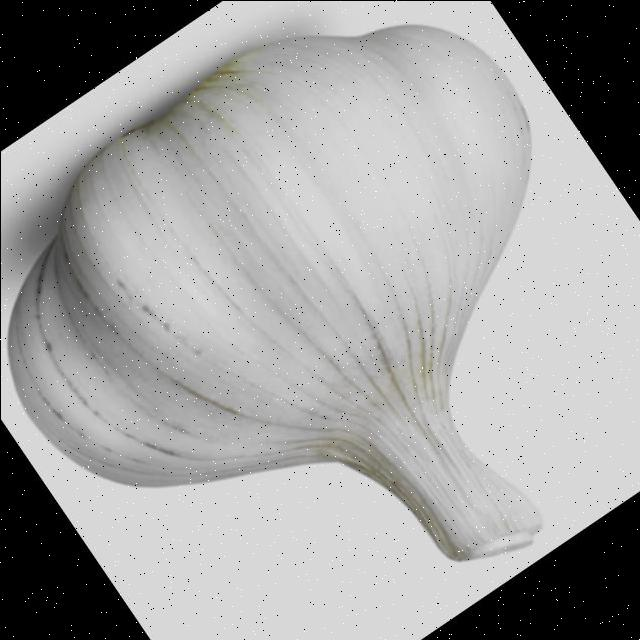garlic: (8, 26, 540, 559)
